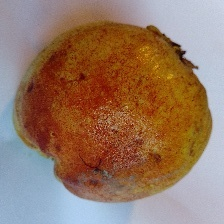guava: (38, 42, 186, 186)
